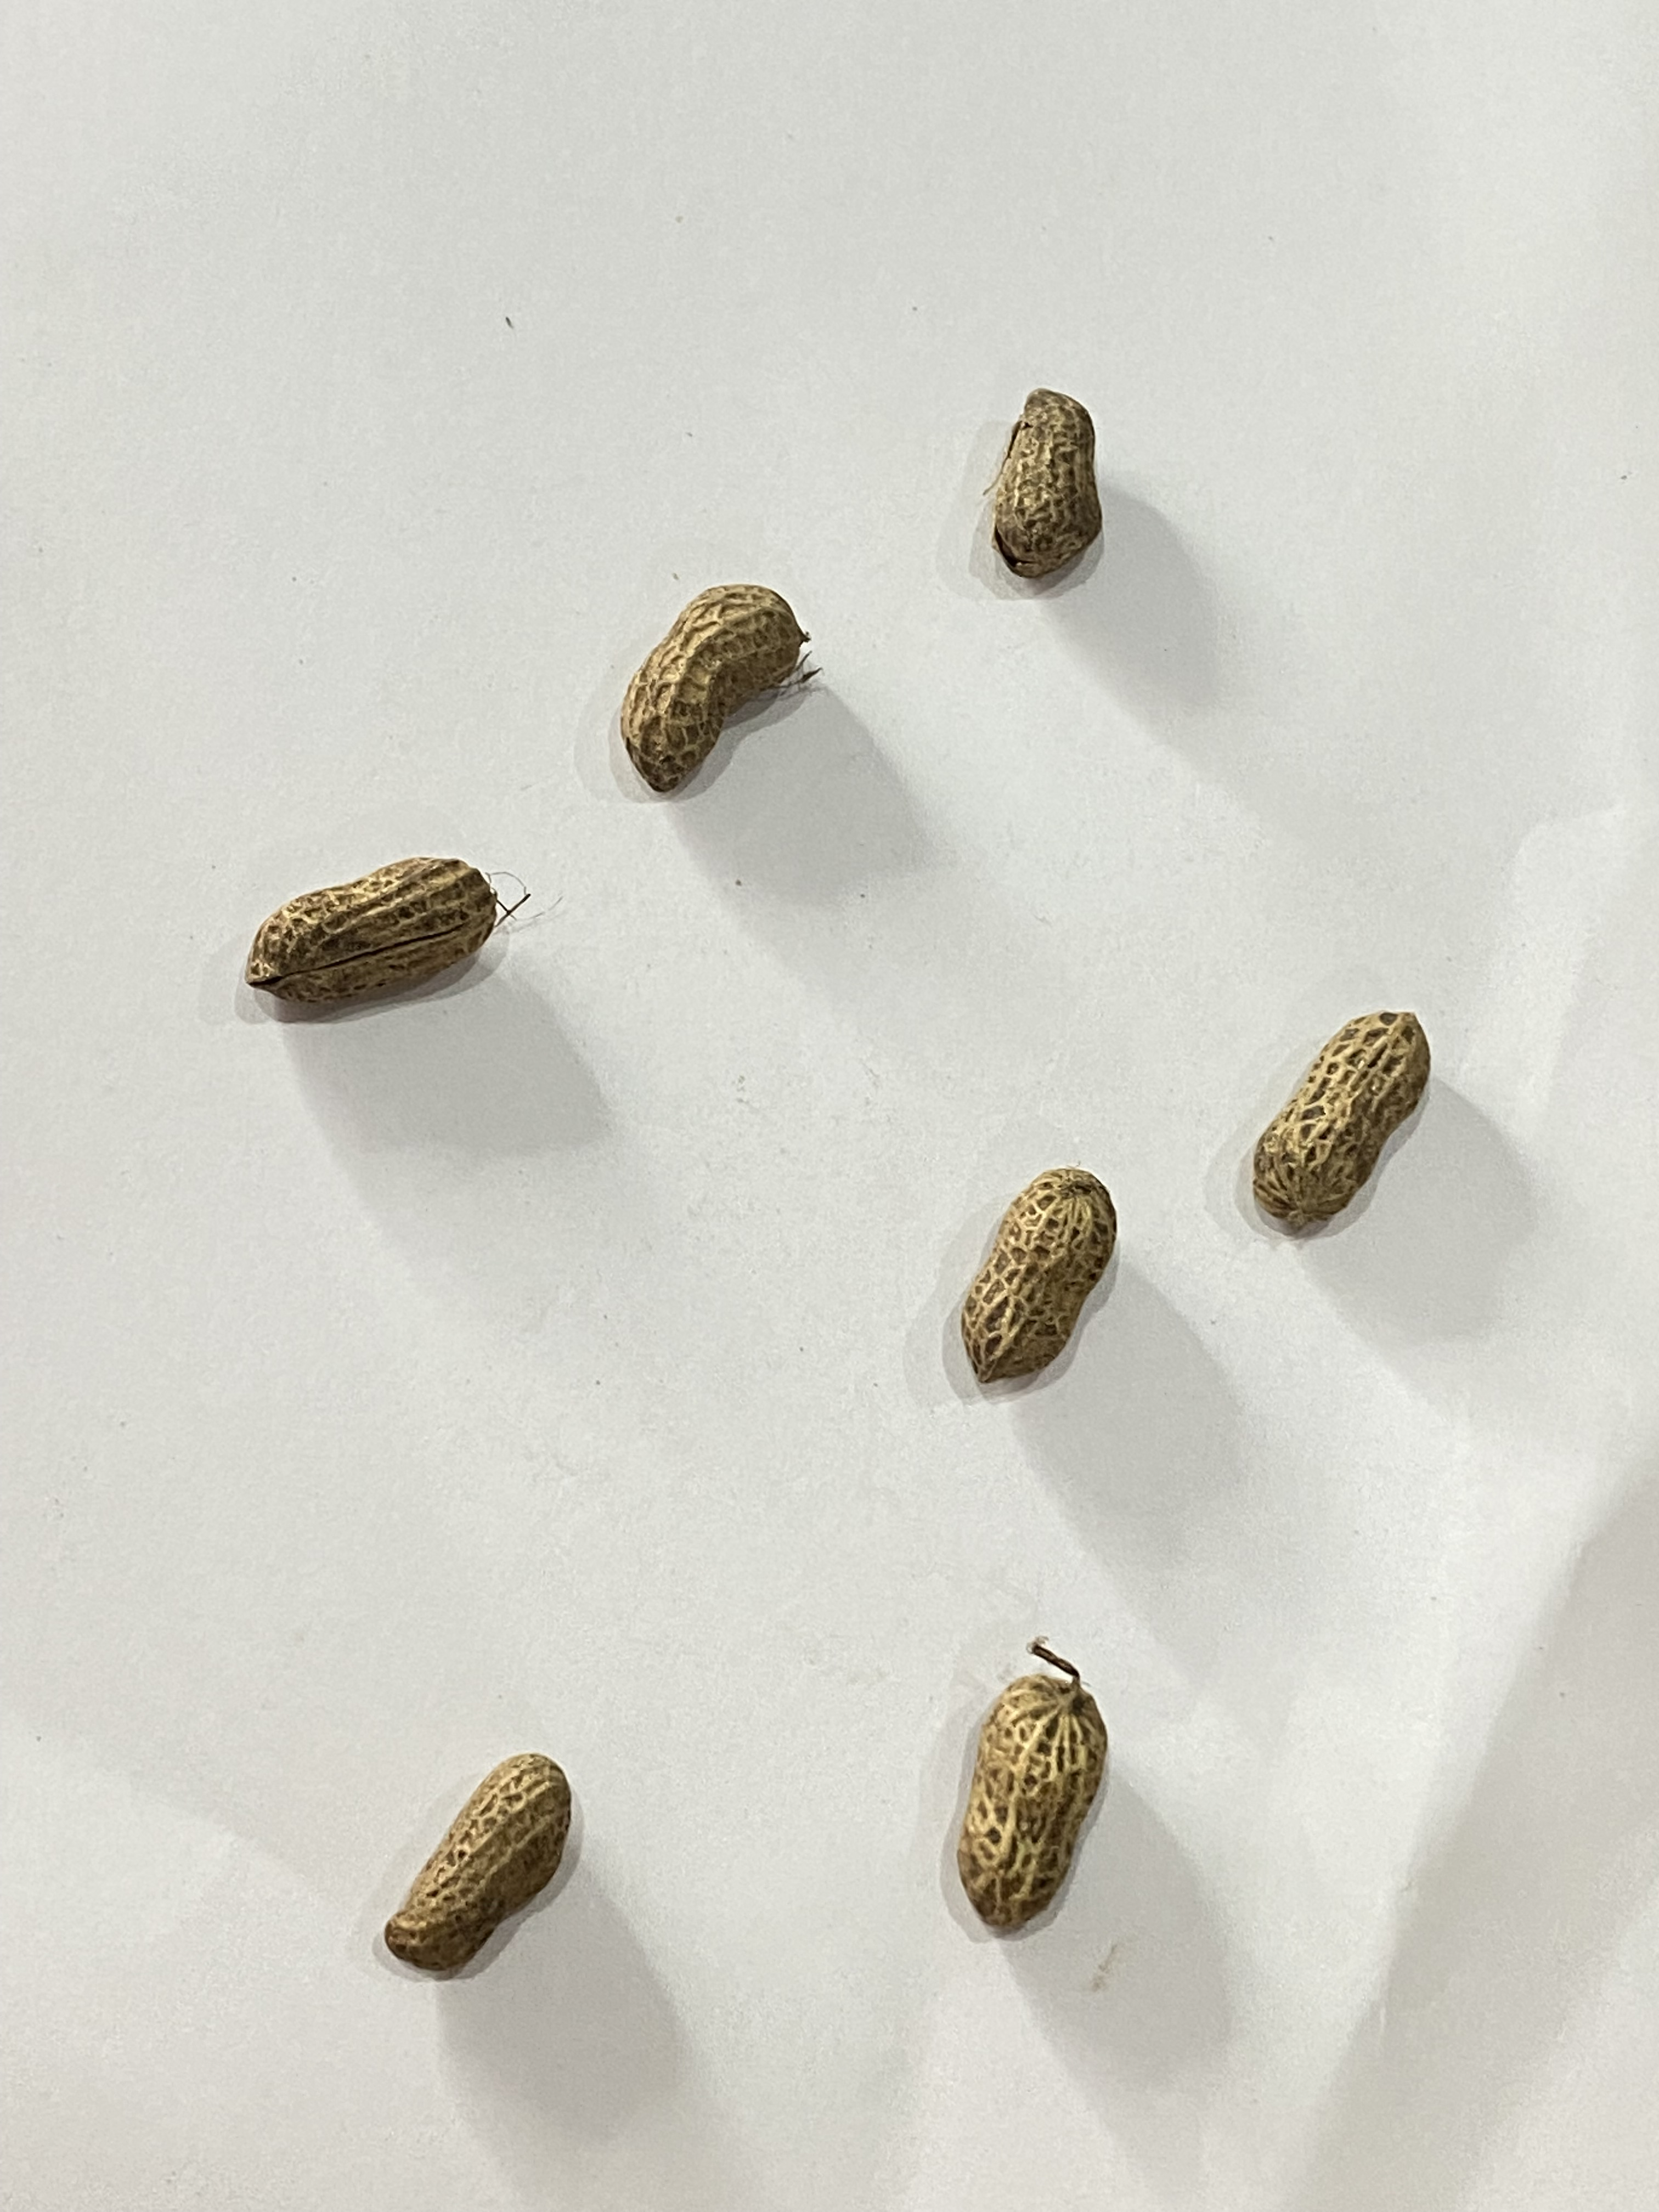kacang1: (951, 345, 1150, 603)
kacang2: (920, 1632, 1140, 1939), (375, 1721, 606, 1977), (904, 1167, 1134, 1400), (1243, 979, 1441, 1240), (227, 843, 516, 1014), (612, 563, 814, 792)
